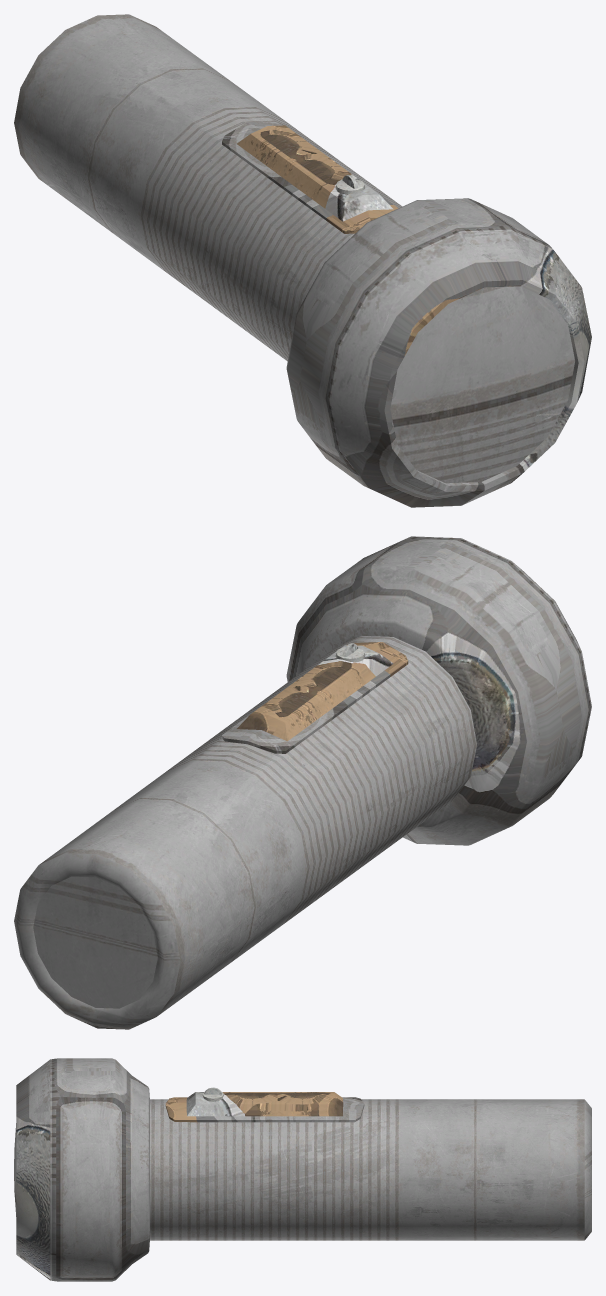
The model's file is flashLight.FBX.
3 views of the same model, one above another, from view 1: azimuth 30°, elevation 25°; view 2: azimuth 150°, elevation 25°; view 3: azimuth 270°, elevation 25° (orthographic). The views are drawn at different scales.
Visible parts, largest first — view 1: SM_FlashLight; view 2: SM_FlashLight; view 3: SM_FlashLight.
Part boxes in pixels (x1=…): SM_FlashLight: x1=14, y1=14, x2=591, y2=507; SM_FlashLight: x1=14, y1=536, x2=591, y2=1029; SM_FlashLight: x1=14, y1=1058, x2=591, y2=1281.
Size of the model in its own units: 7.35 by 7.35 by 18.99.
1 material, 1 textured.
